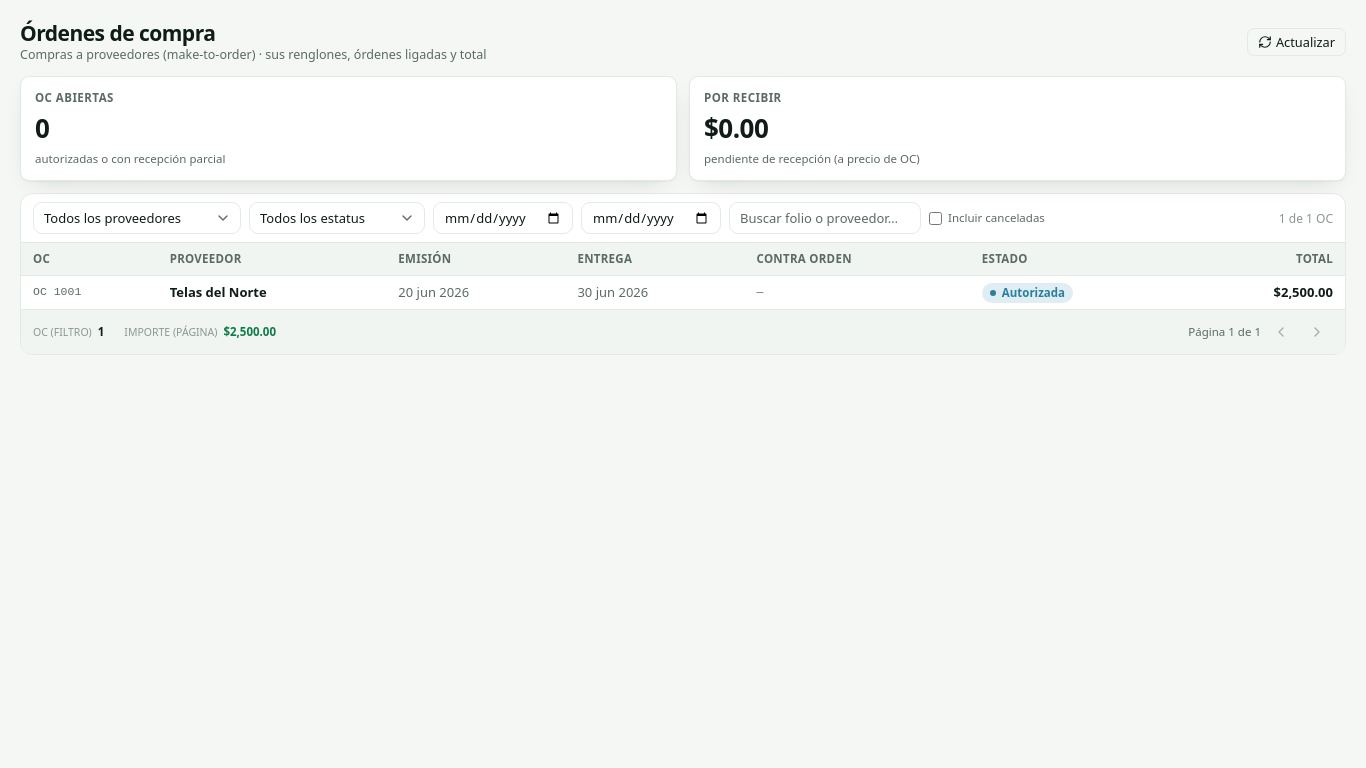
Test: OrdenesCompraPagina — des-autorizar (V1-E3y) › aparece en una OC AUTORIZADA cuando se tiene compras.desautorizar
Click the row with test id "fila-oc" at (218, 292), box [21,275,1345,309]
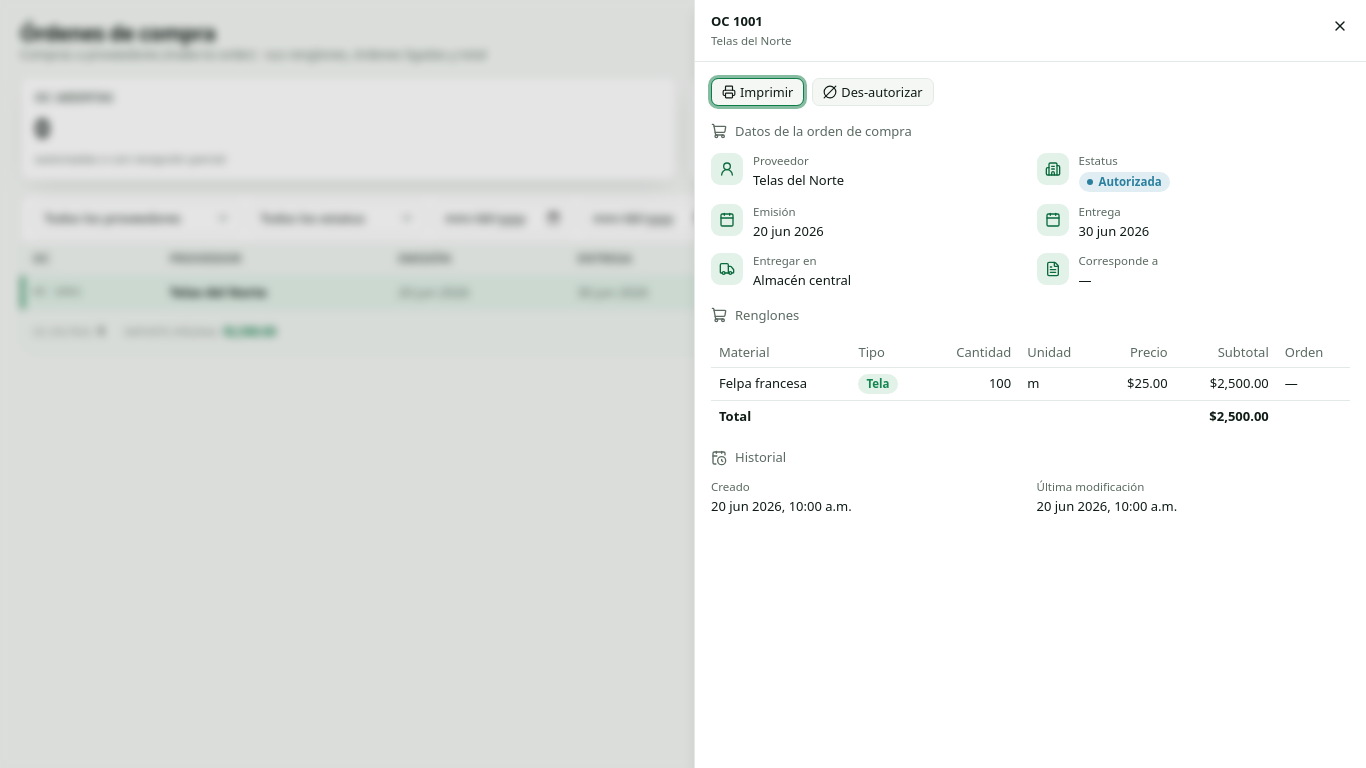
Expected: the button with test id "desautorizar-oc" is shown, [812,78,934,106]
